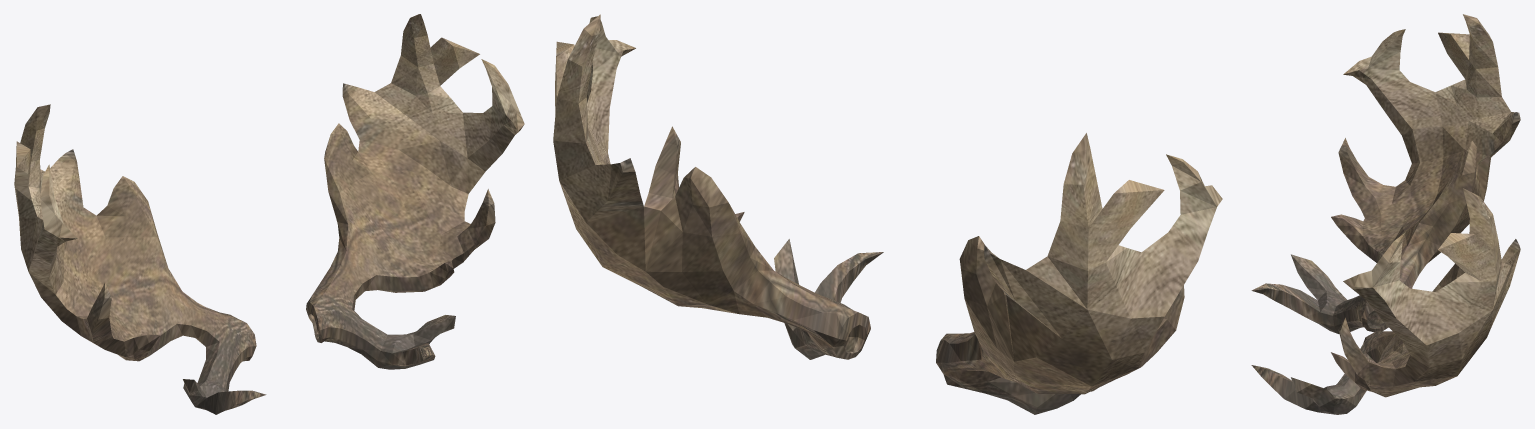
Rendered from mhw_elvs_moose_antlers_1.glb.
3 views of the same model, side by side, from view 1: azimuth 30°, elevation 25°; view 2: azimuth 150°, elevation 25°; view 3: azimuth 270°, elevation 25° (orthographic). The views are drawn at different scales.
Parts seen in each view (by area): view 1: mhw_elvs_moose_antlers_1; view 2: mhw_elvs_moose_antlers_1; view 3: mhw_elvs_moose_antlers_1.
Boxes of the visible parts, <box> form: mhw_elvs_moose_antlers_1: <box>14,14,524,414</box>; mhw_elvs_moose_antlers_1: <box>553,14,1222,414</box>; mhw_elvs_moose_antlers_1: <box>1251,14,1520,414</box>.
Bounding box in the file's own units: 0.7433 × 0.4232 × 0.3791.
Materials: 1 (1 with a texture image).
